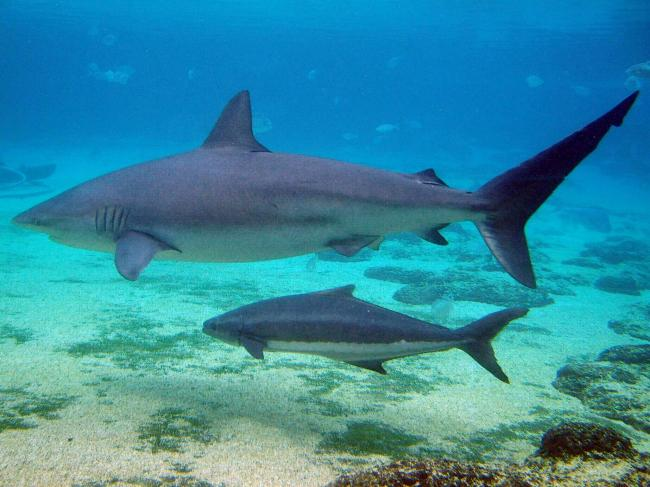fish: (13, 90, 639, 290), (202, 286, 527, 385)
